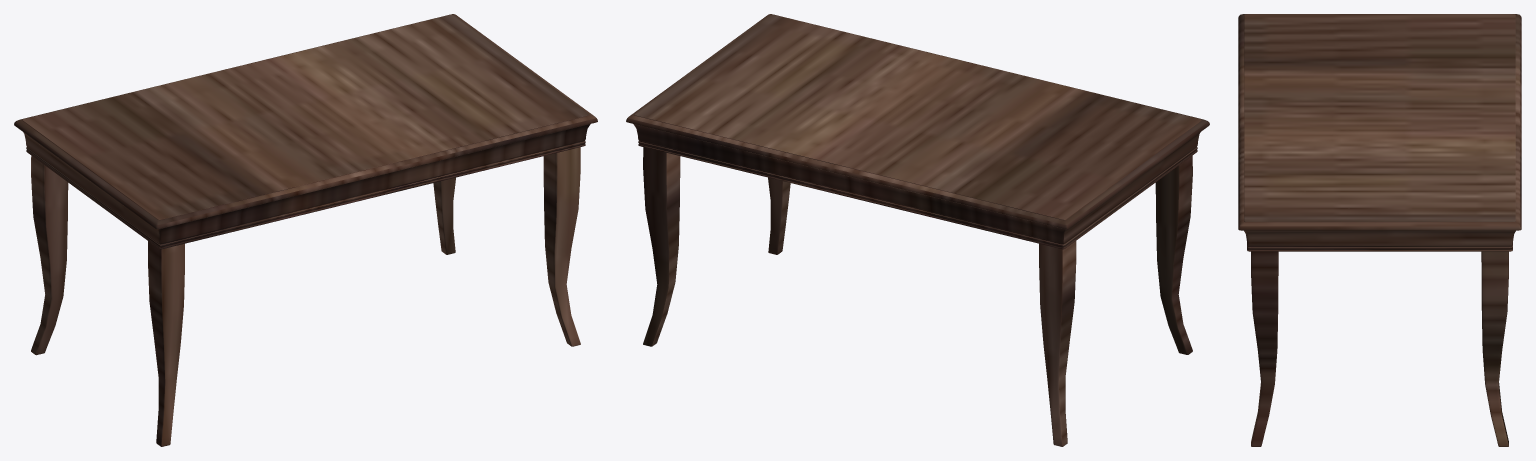
Rendered from table2.dae.
The picture shows the model from 3 angles, left to right: view 1: azimuth 30°, elevation 25°; view 2: azimuth 150°, elevation 25°; view 3: azimuth 270°, elevation 25°; orthographic projection.
Parts seen in each view (by area): view 1: Delmobile_Table; view 2: Delmobile_Table; view 3: Delmobile_Table.
Part boxes in pixels (x1,y1,x2,y2): Delmobile_Table: (14, 14, 597, 446); Delmobile_Table: (626, 14, 1209, 446); Delmobile_Table: (1238, 14, 1521, 446).
Size of the model in its own units: 1.6 by 0.7998 by 0.9.
